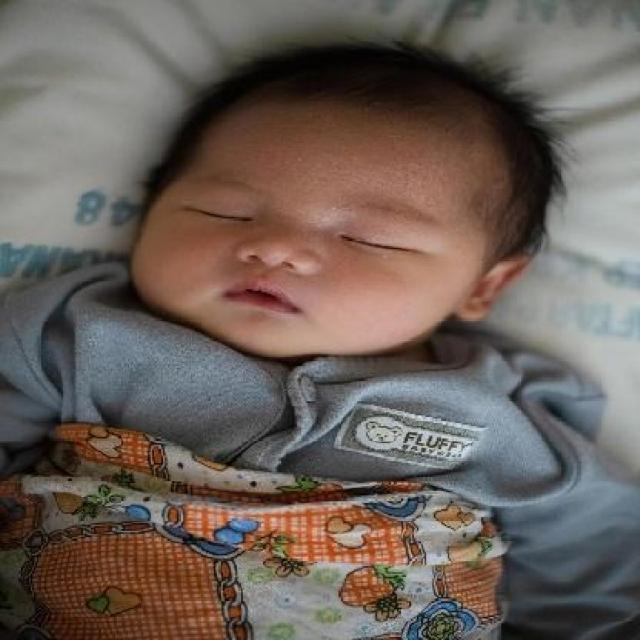baby: (31, 39, 560, 638)
